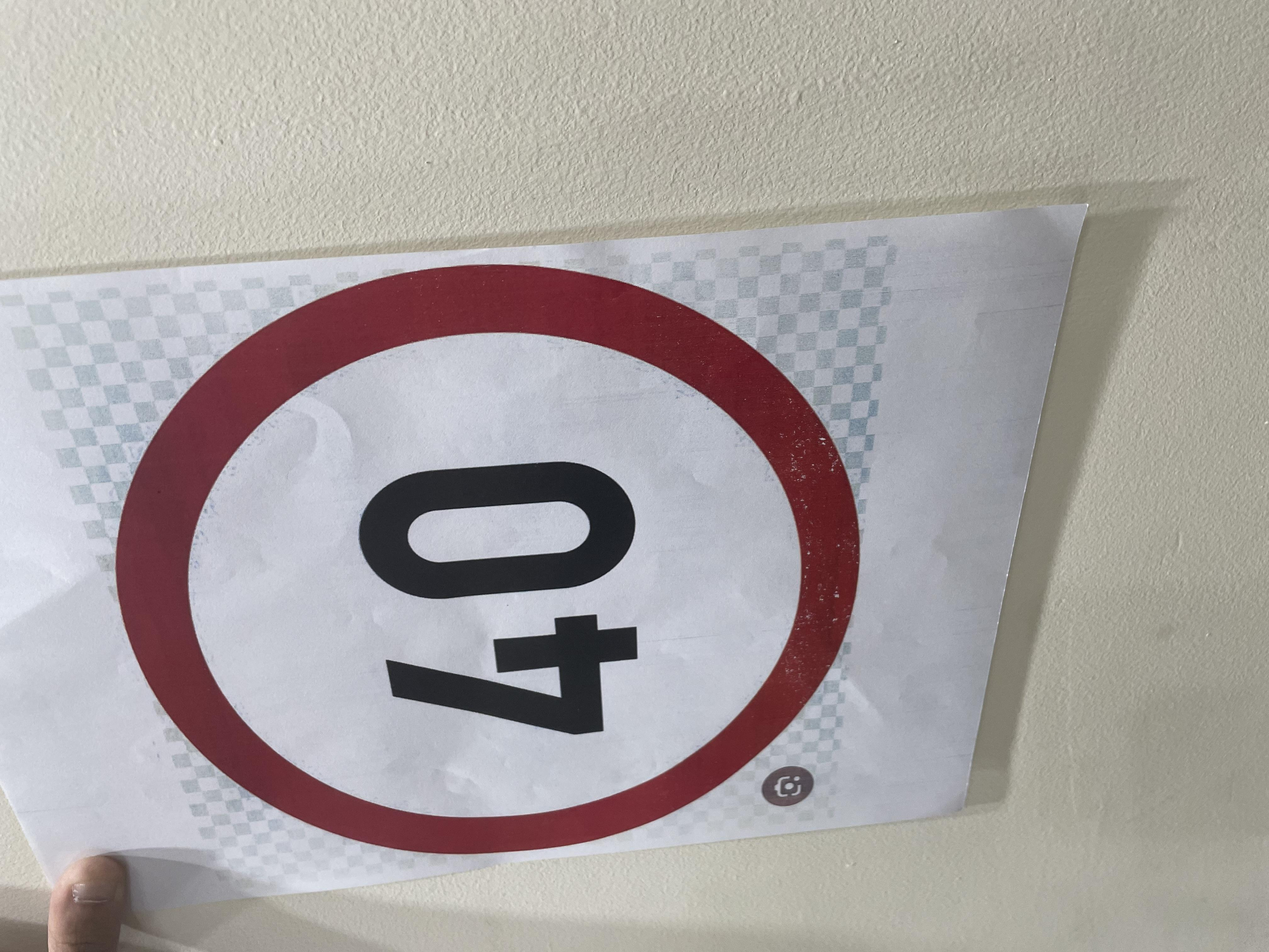40-Speed: (110, 109, 919, 643)
